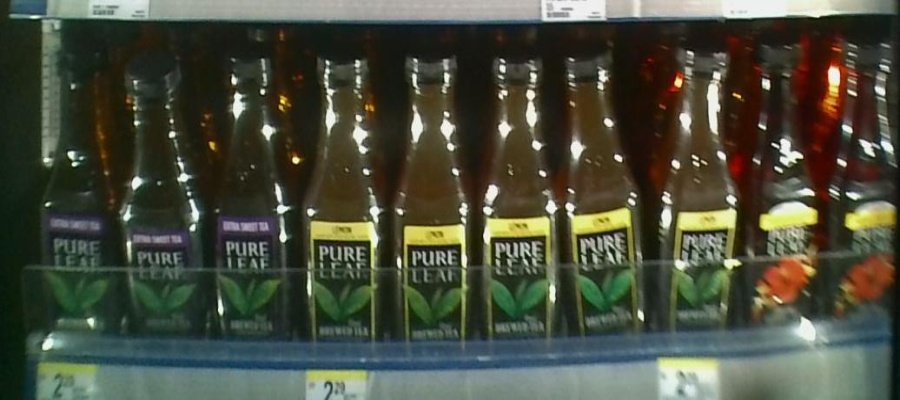bottle: (557, 39, 652, 336), (390, 42, 481, 347), (299, 41, 391, 340), (122, 48, 213, 334), (653, 40, 740, 335), (214, 42, 299, 340), (746, 38, 830, 332), (40, 47, 122, 322), (482, 41, 555, 342), (829, 41, 900, 316)
